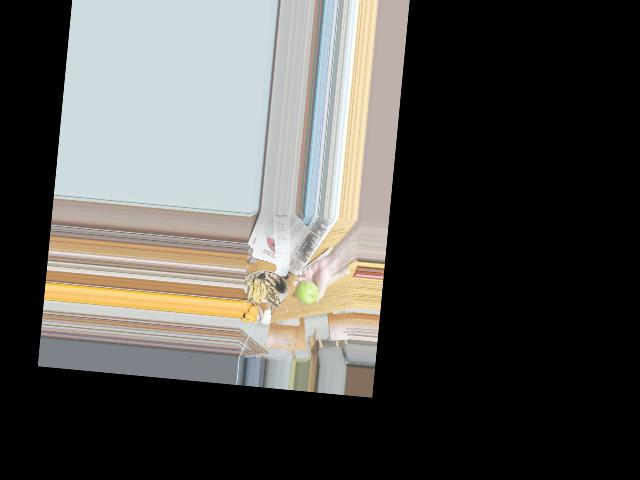apple: (294, 279, 320, 304)
